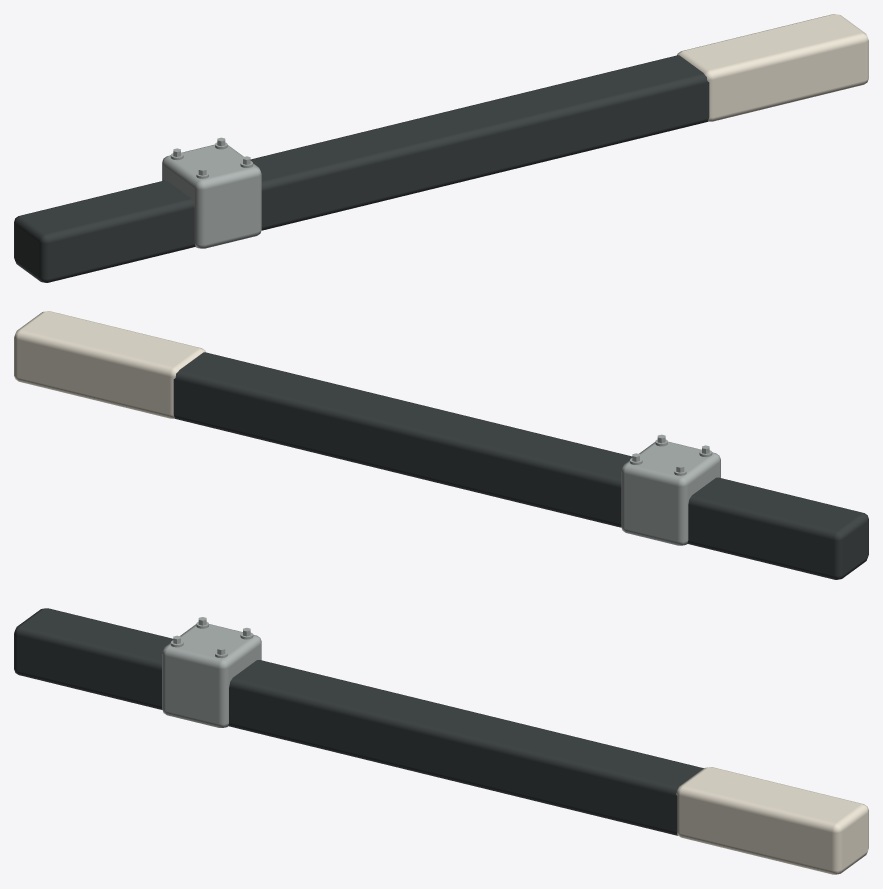
File: canal-boats-and-lock-operations-canal-boats-and-lock-o-82f4e750__31623.glb
The picture shows the model from 3 angles, top to bottom: view 1: azimuth 30°, elevation 25°; view 2: azimuth 150°, elevation 25°; view 3: azimuth 330°, elevation 25°; orthographic projection.
Parts seen in each view (by area): view 1: canal-boats-and-lock-operations-gate-balance-beam; view 2: canal-boats-and-lock-operations-gate-balance-beam; view 3: canal-boats-and-lock-operations-gate-balance-beam.
Boxes of the visible parts, <box> form: canal-boats-and-lock-operations-gate-balance-beam: <box>14,14,868,282</box>; canal-boats-and-lock-operations-gate-balance-beam: <box>14,311,868,579</box>; canal-boats-and-lock-operations-gate-balance-beam: <box>14,608,868,874</box>.
Size of the model in its own units: 3 by 0.265 by 0.25.
